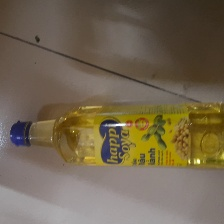Happy Soya: (7, 99, 224, 174)
